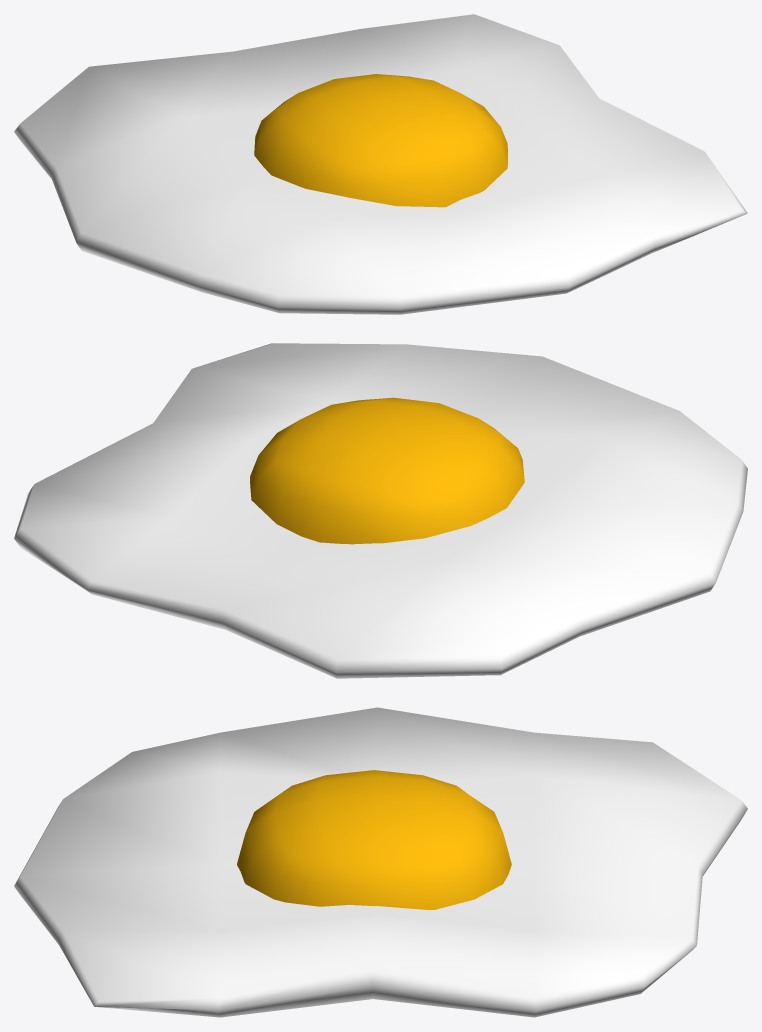
Rendered from CookedEgg.fbx.
The picture shows the model from 3 angles, top to bottom: view 1: azimuth 30°, elevation 25°; view 2: azimuth 150°, elevation 25°; view 3: azimuth 270°, elevation 25°; orthographic projection. The views are drawn at different scales.
Visible parts, largest first — view 1: CookedEgg; view 2: CookedEgg; view 3: CookedEgg.
Part boxes in pixels (left/top/right/bottom): CookedEgg: left=14, top=14, right=747, bottom=314; CookedEgg: left=14, top=343, right=747, bottom=678; CookedEgg: left=14, top=707, right=747, bottom=1017.
Bounding box in the file's own units: 73.61 × 10.25 × 77.2.
